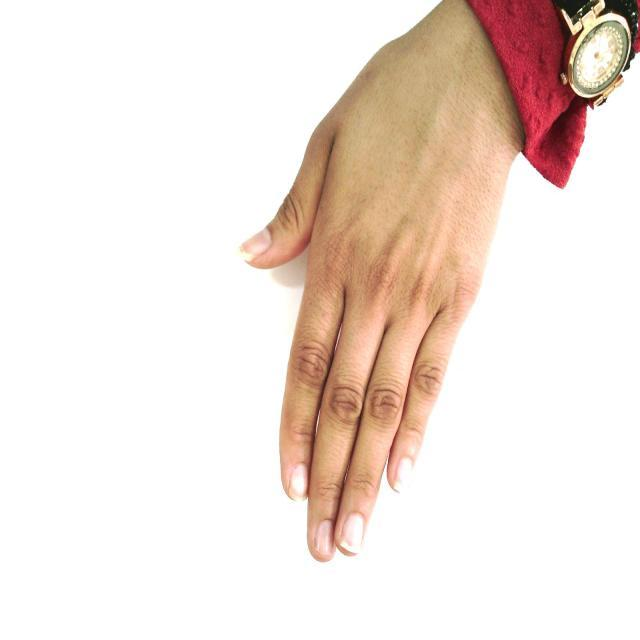Fingernail: (239, 229, 272, 263), (340, 512, 365, 553), (289, 463, 308, 501), (314, 521, 335, 555), (394, 457, 412, 492)
